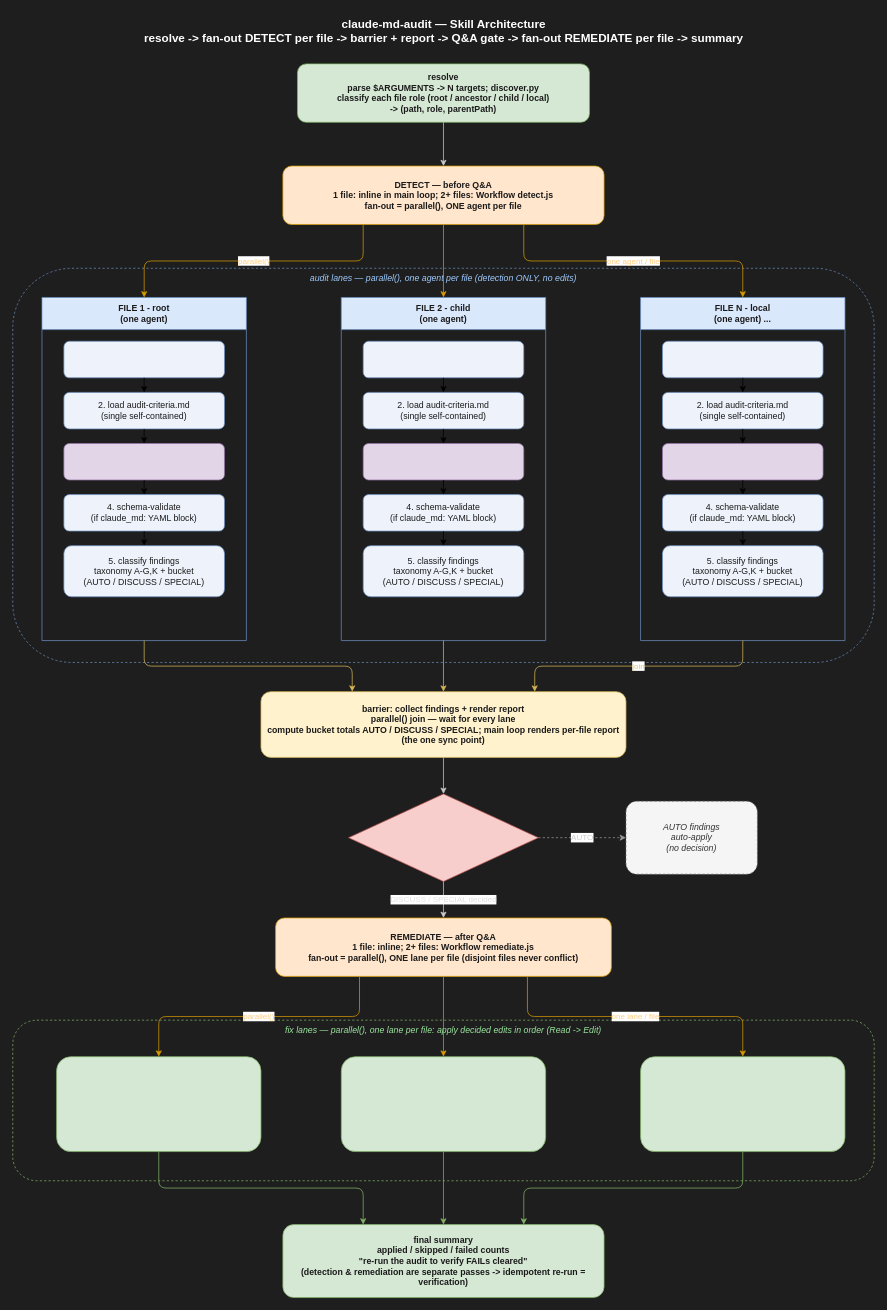
Image size: 887x1310. Some labels were removed from this diagram. Here are the shapes that lost their labels. From the top down, the centre of each, then its label:
At (x=143, y=359): "1. read the file (root)".
At (x=443, y=359): "1. read child + parent CLAUDE.md".
At (x=742, y=359): "1. read the file (local)".
At (x=143, y=461): "3. apply CCP / CRP / ADP + Hygiene (role-to-criteria map)".
At (x=443, y=461): "3. apply CCP / CRP / ADP + Hygiene CCP cross-file dup-check = taxonomy B".
At (x=742, y=461): "3. apply D-group criteria ONLY (skip ADP / Hygiene)".
At (x=443, y=837): "Q&A GATE human-in-the-loop (inferred when 'fast')".
At (x=158, y=1104): "fix lane: FILE 1 - root Read -> Edit apply decided edits in order".
At (x=443, y=1104): "fix lane: FILE 2 - child Read -> Edit apply decided edits in order".
At (x=742, y=1104): "fix lane: FILE N - local ... Read -> Edit apply decided edits in order".
